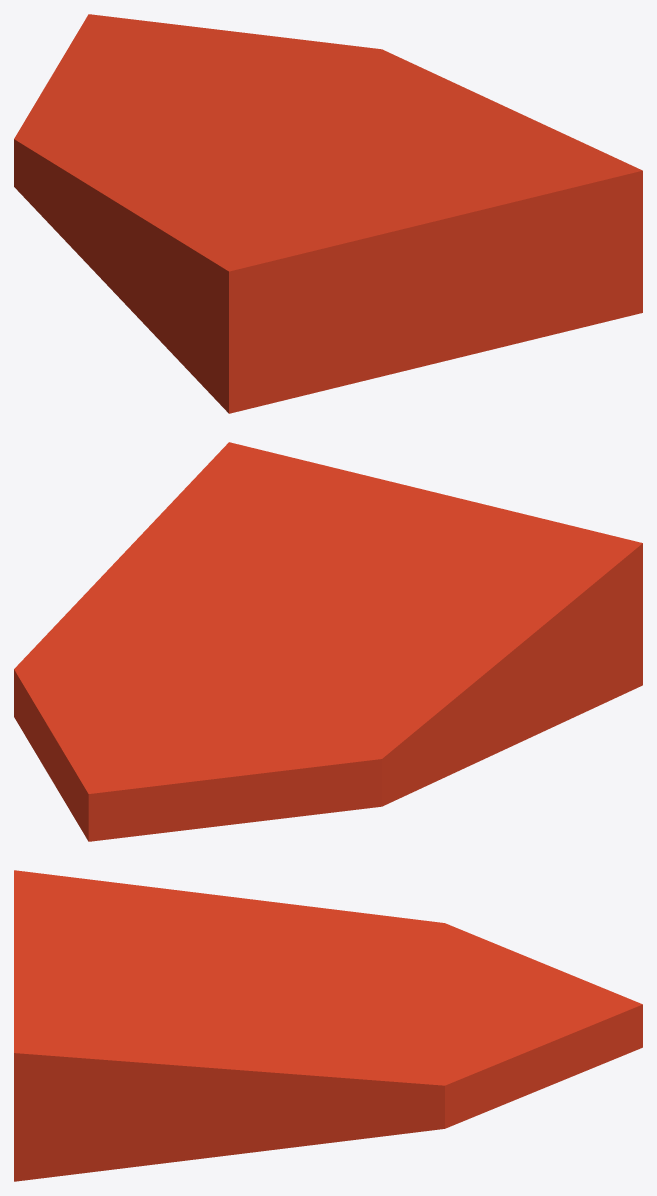
Rendered from piece_red.gltf.
3 renders of one model, top to bottom at view 1: azimuth 30°, elevation 25°; view 2: azimuth 150°, elevation 25°; view 3: azimuth 270°, elevation 25°, orthographic. The views are drawn at different scales.
Visible parts, largest first — view 1: Cube; view 2: Cube; view 3: Cube.
Part boxes in pixels (x1,y1,x2,y2): Cube: (14,14,642,413); Cube: (14,442,642,841); Cube: (14,870,642,1181).
Size of the model in its own units: 0.6994 by 0.2297 by 1.02.
